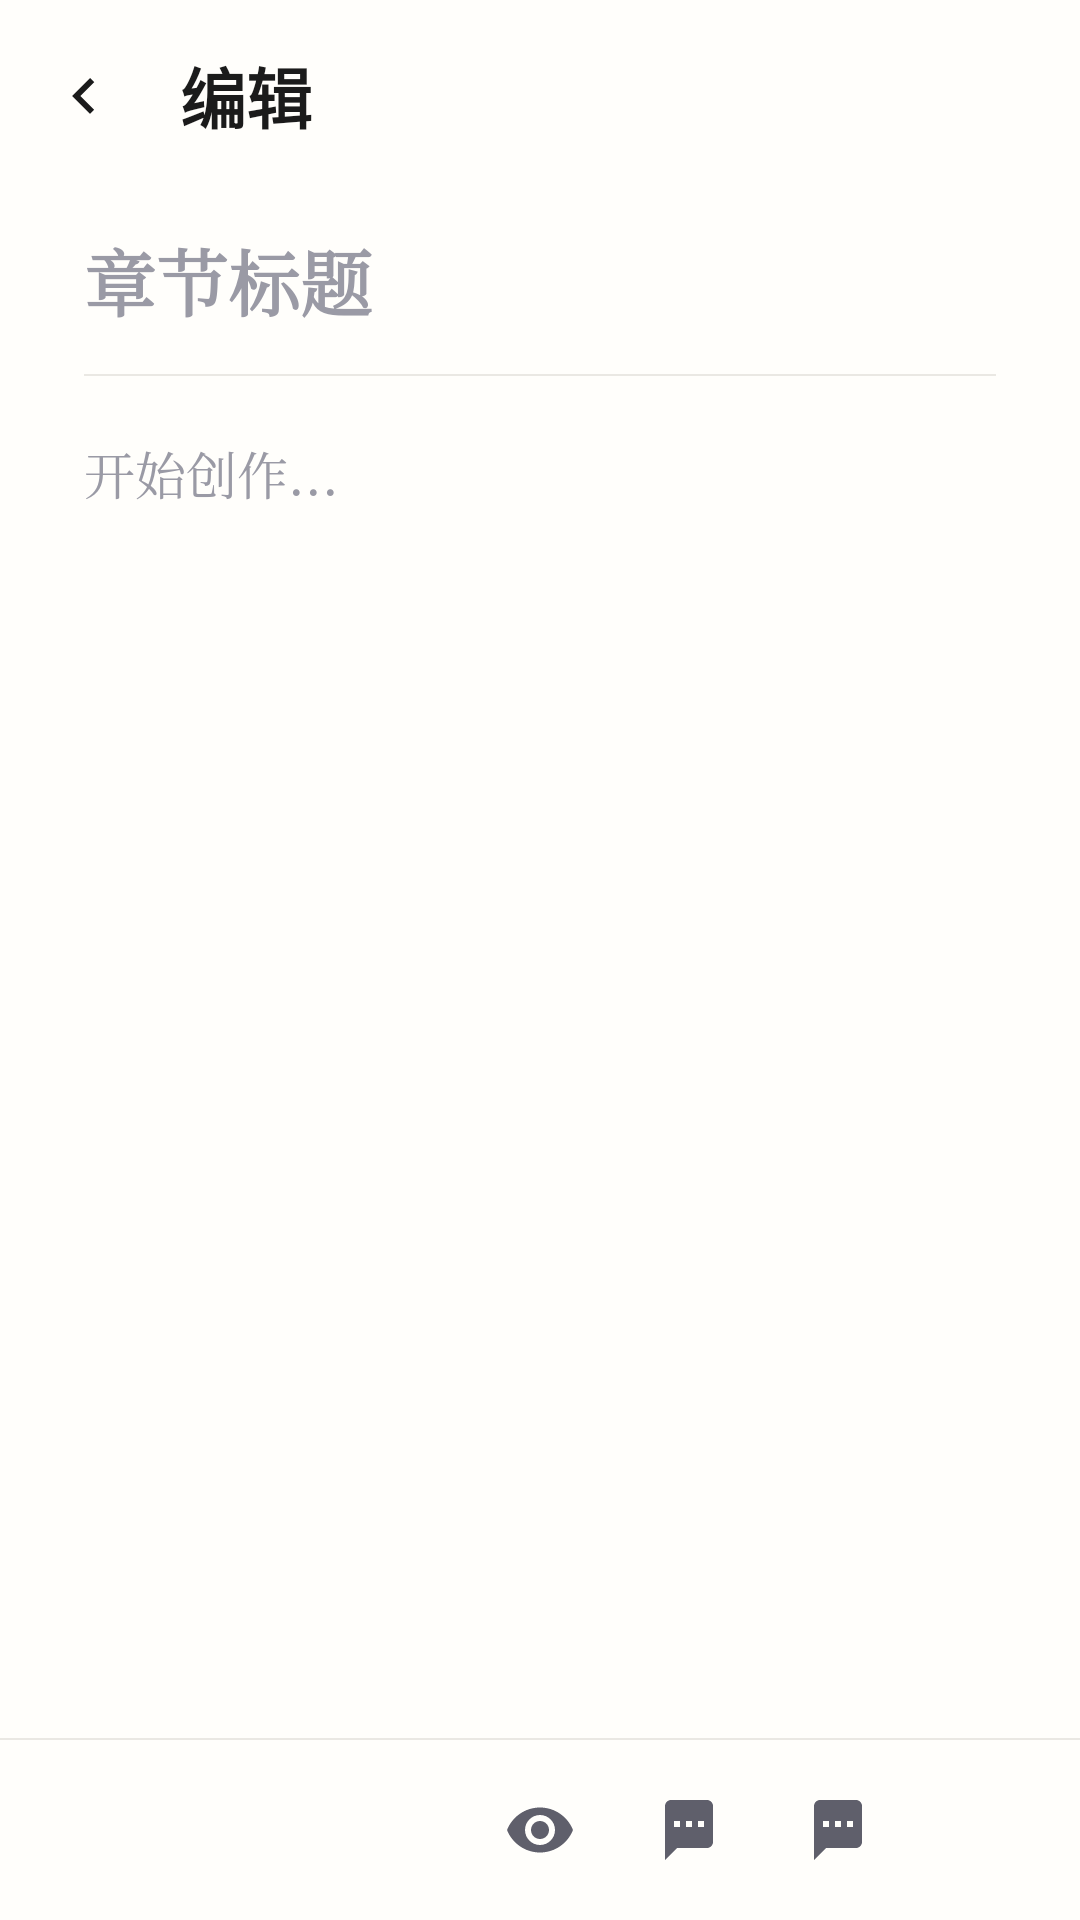

Icons on this 1080×1920 Android screen, each with its box as (x1, y1, x2, y2):
预览: (507, 1807, 573, 1853)
